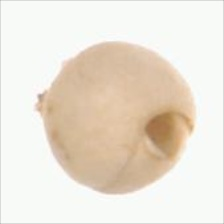L3: (140, 107, 194, 166)
L4: (36, 40, 195, 195)
